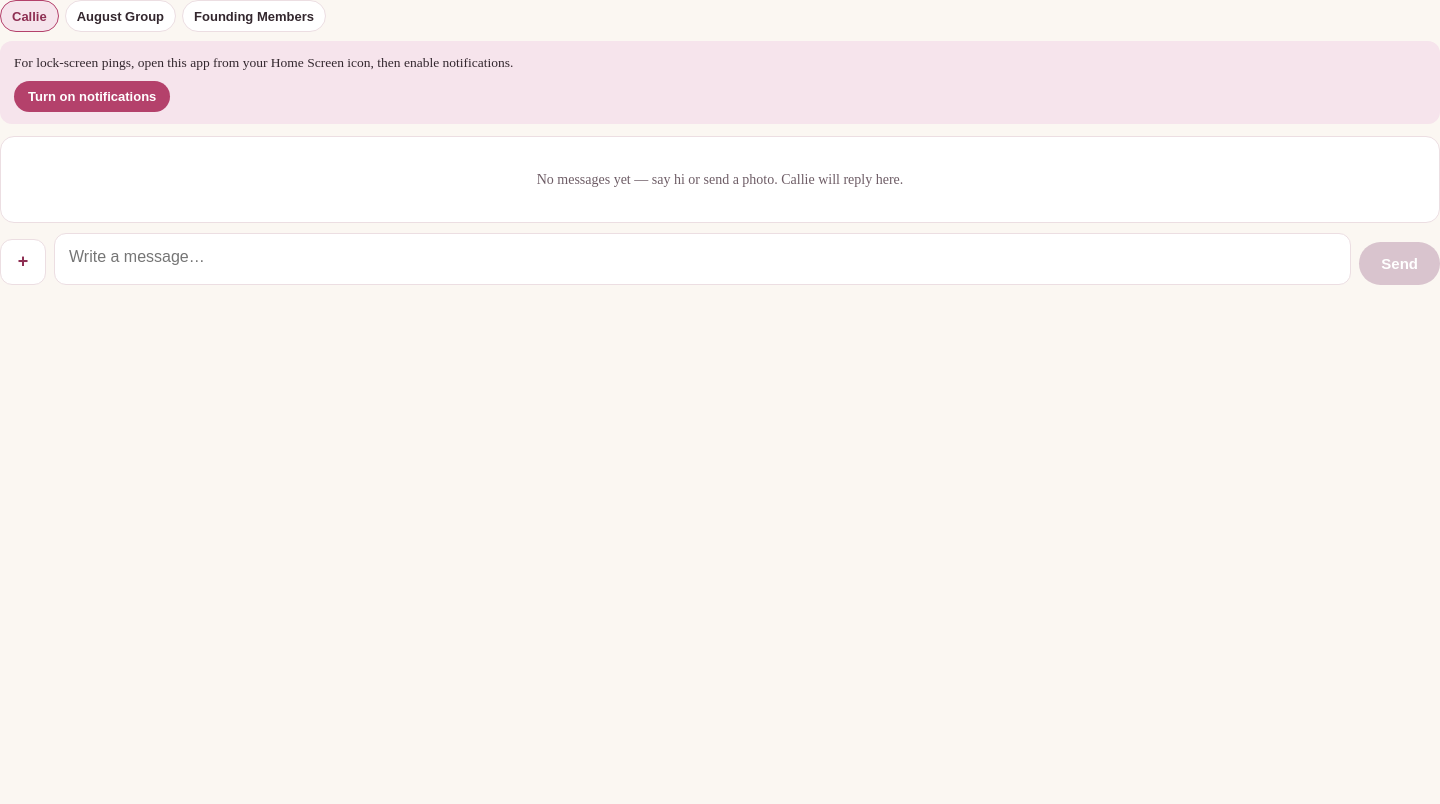
Scenario: load earlier messages › stops offering earlier history once a short page comes back
Click the button "August Group" at (120, 16), box x1=65 y1=0 x2=176 y2=32
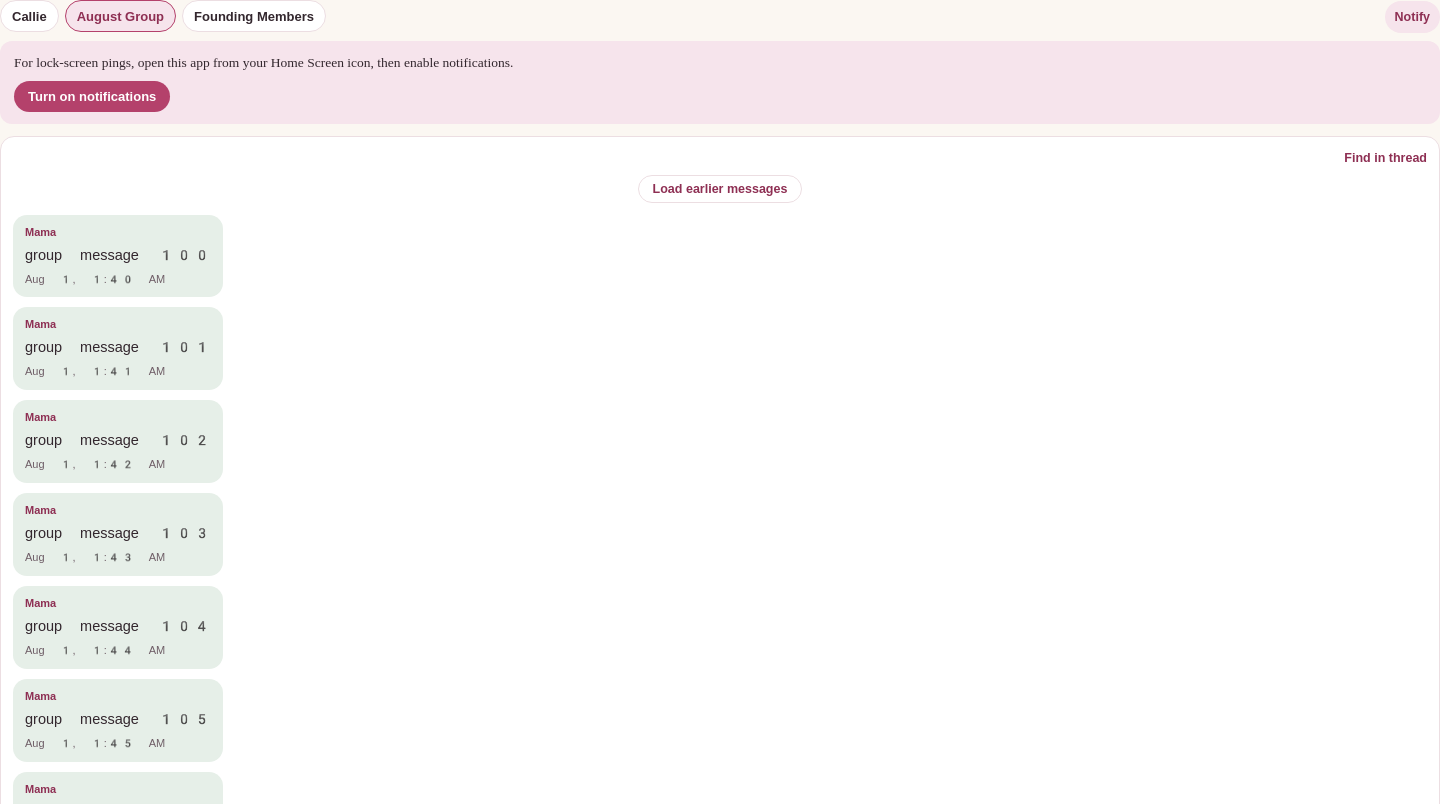
Result: the button "Load earlier messages" is shown
Click the button "Load earlier messages" at (720, 189), box x1=638 y1=175 x2=802 y2=203
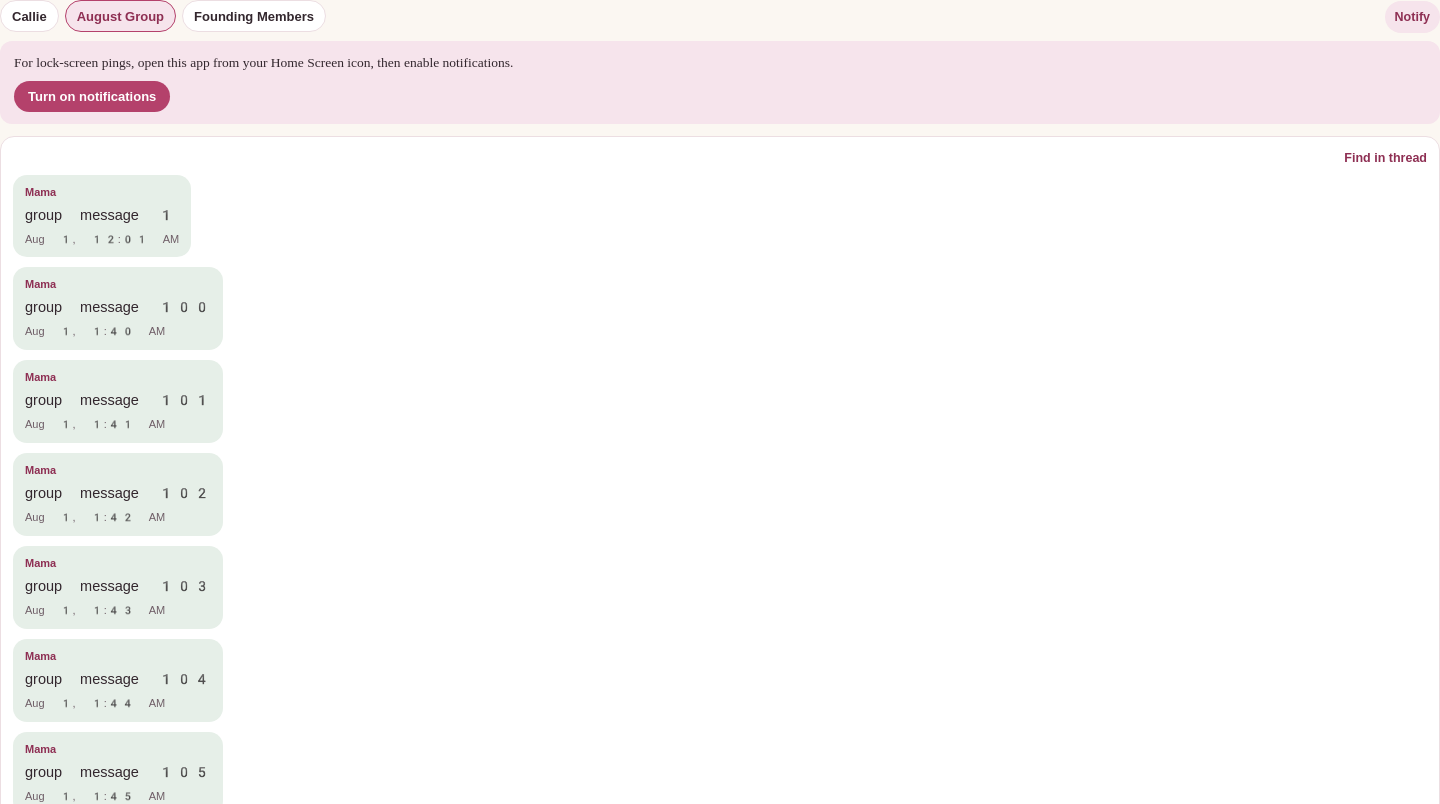
Result: the button "Load earlier messages" is gone
